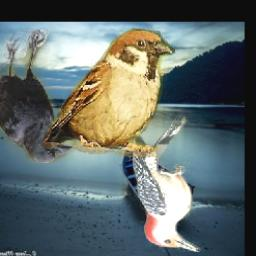Crow: (0, 31, 74, 164)
Sparrow: (42, 29, 174, 158)
Woodpecker: (132, 118, 203, 253)
